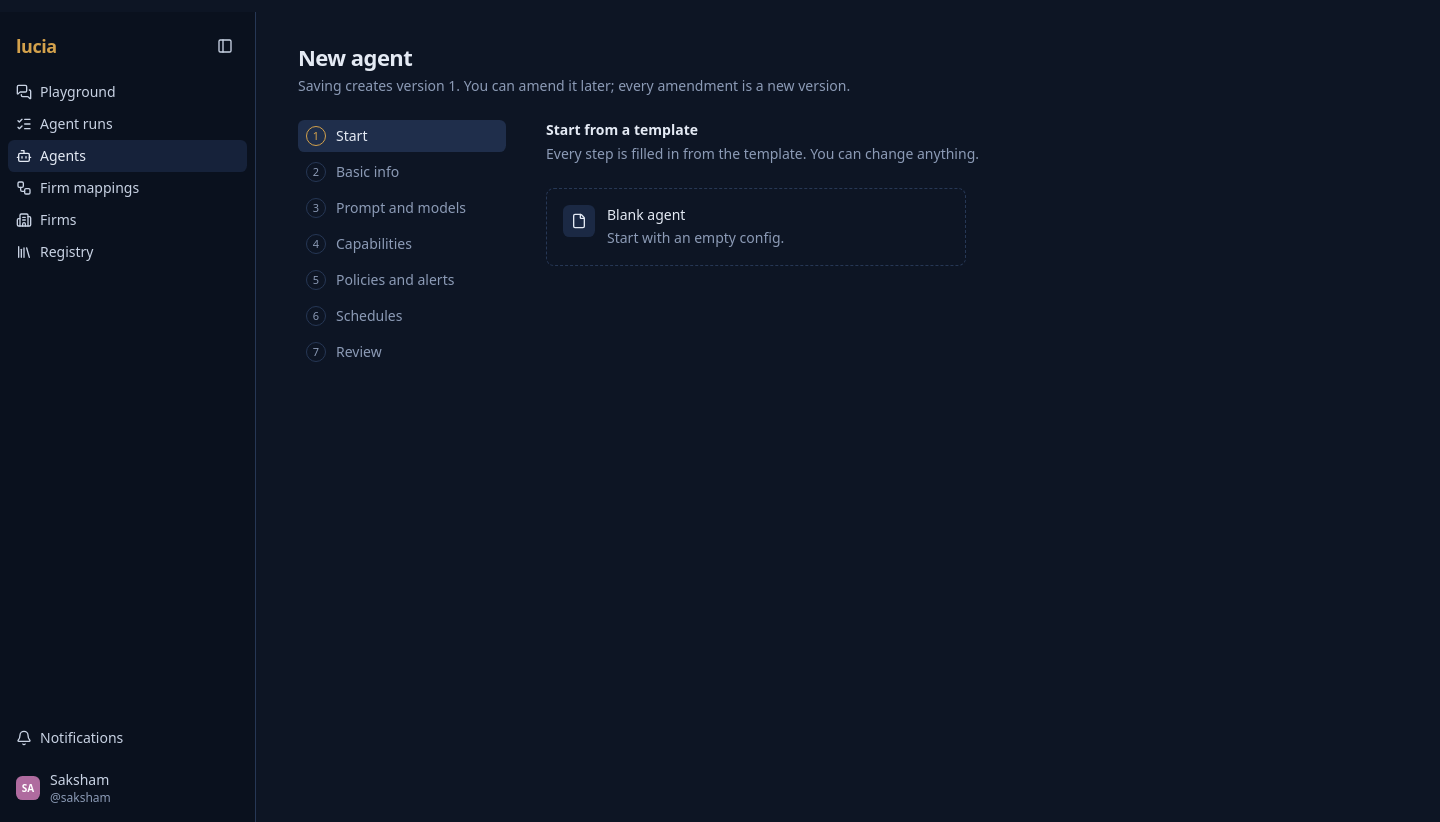
Scenario: new agent wizard › blocks Next until the step is valid
This screenshot has width=1440, height=822.
Click the button "Blank agent Start with an empty config." at (756, 226), box [546,188,966,266]
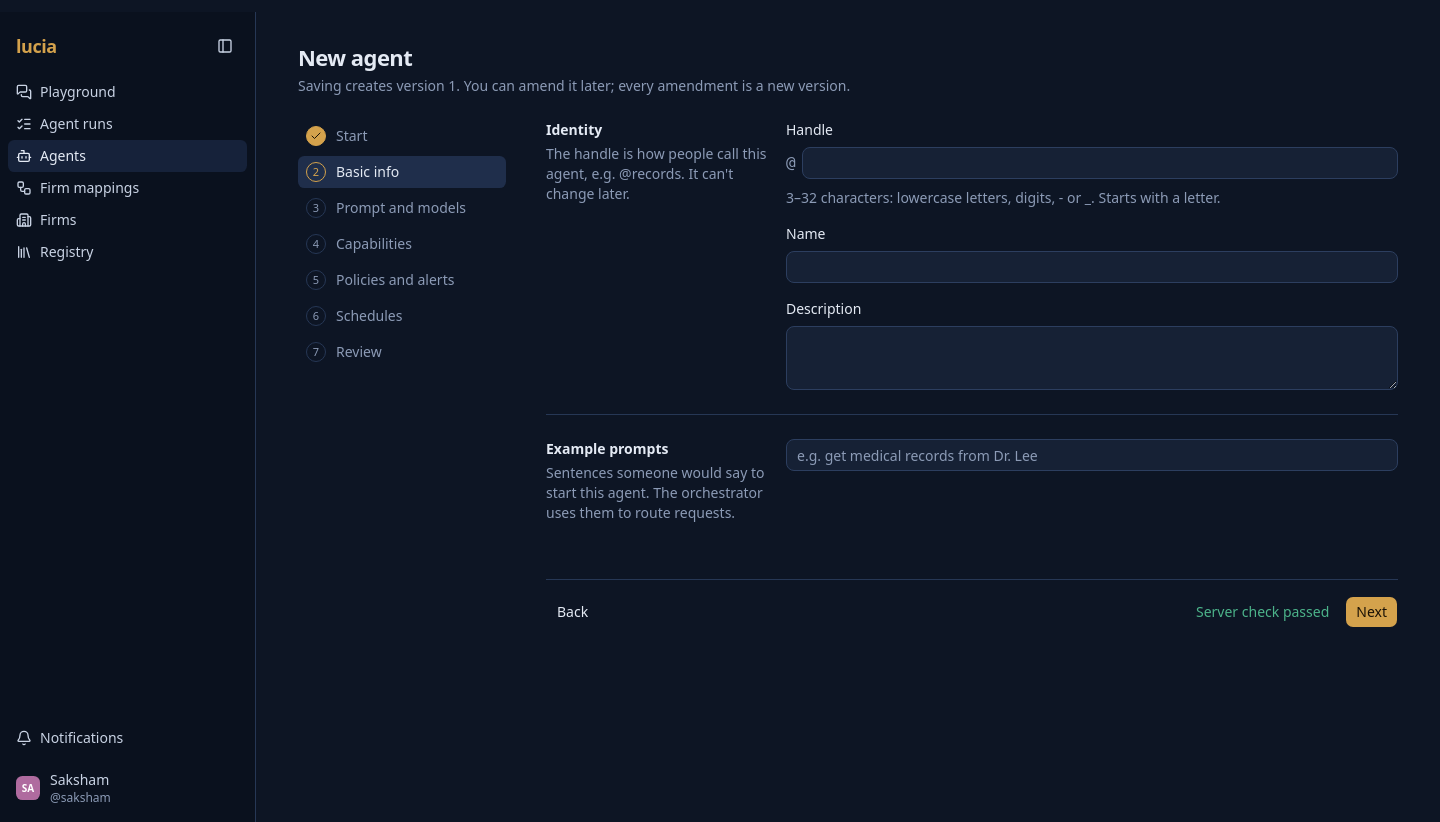
Click the button "Next" at (1372, 612), box [1345,596,1398,628]
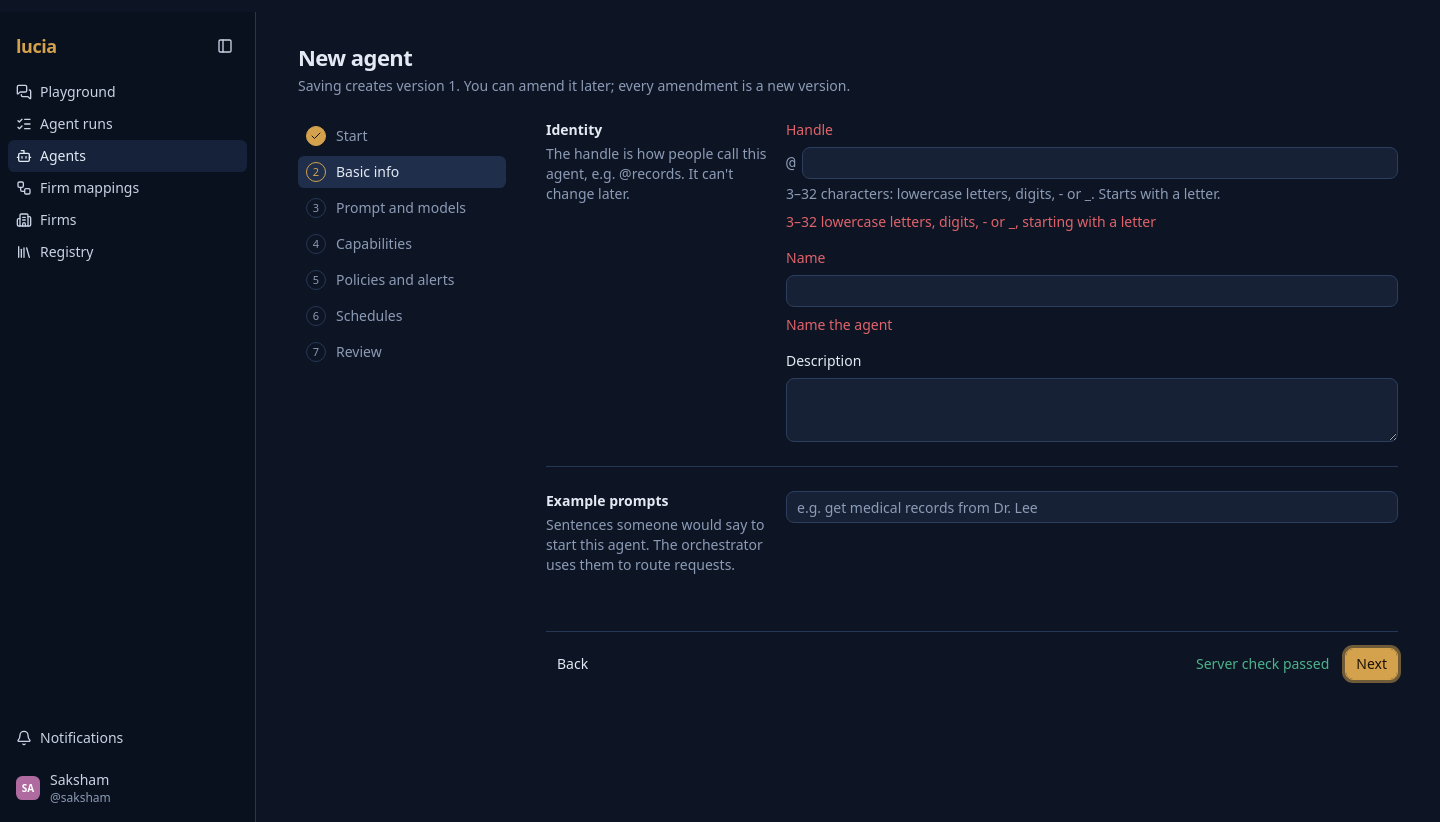
Now the text "3–32 lowercase letters, digits, - or _, starting with a letter" is shown, box [786,212,1156,231]
Now the text "Name the agent" is shown, box [786,315,892,334]
